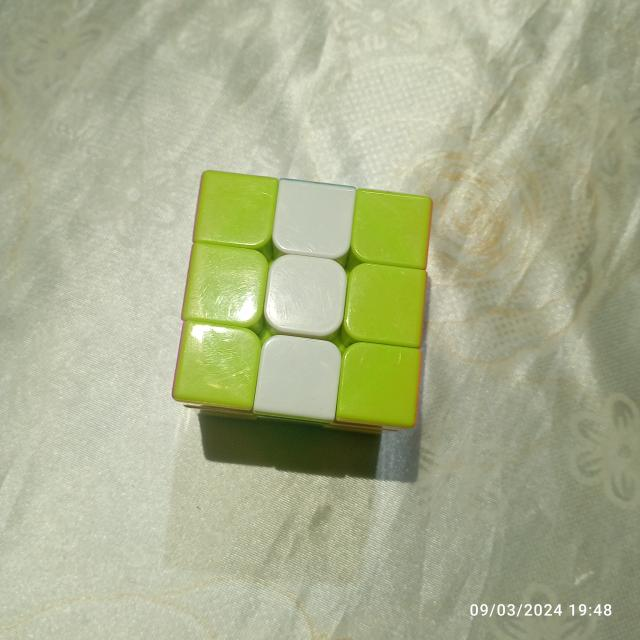Rub: (168, 156, 436, 436)
